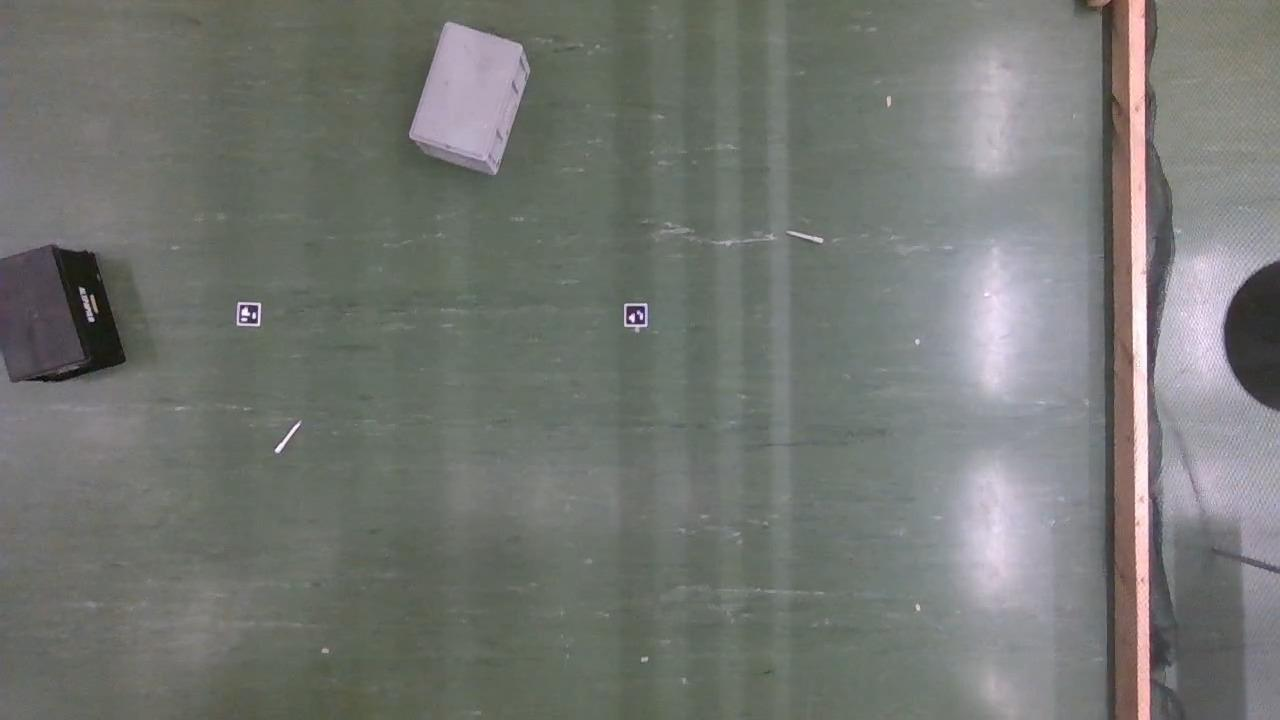probes: (273, 420, 301, 454), (786, 230, 823, 244)
rako: (406, 21, 533, 176), (0, 244, 126, 383)
